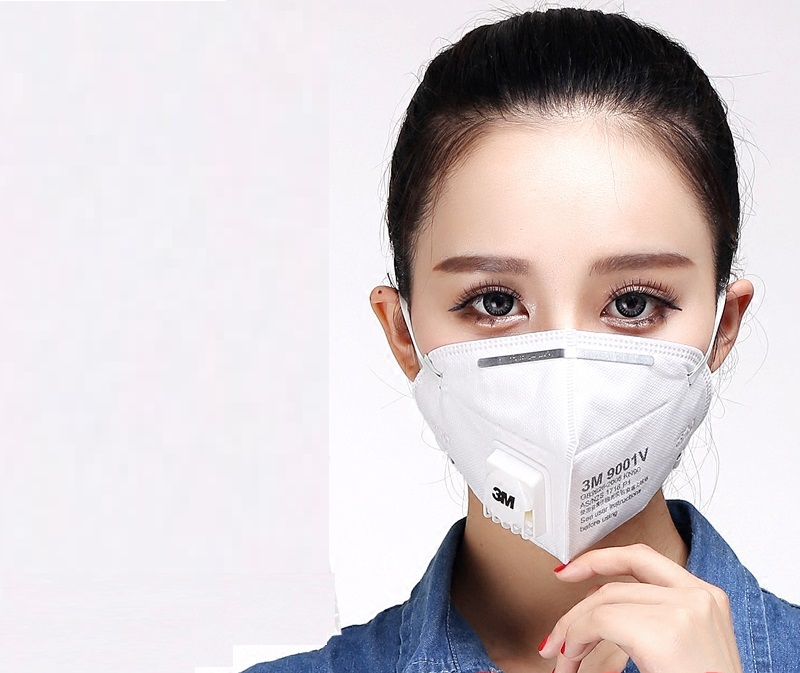face_mask: (407, 133, 716, 540)
